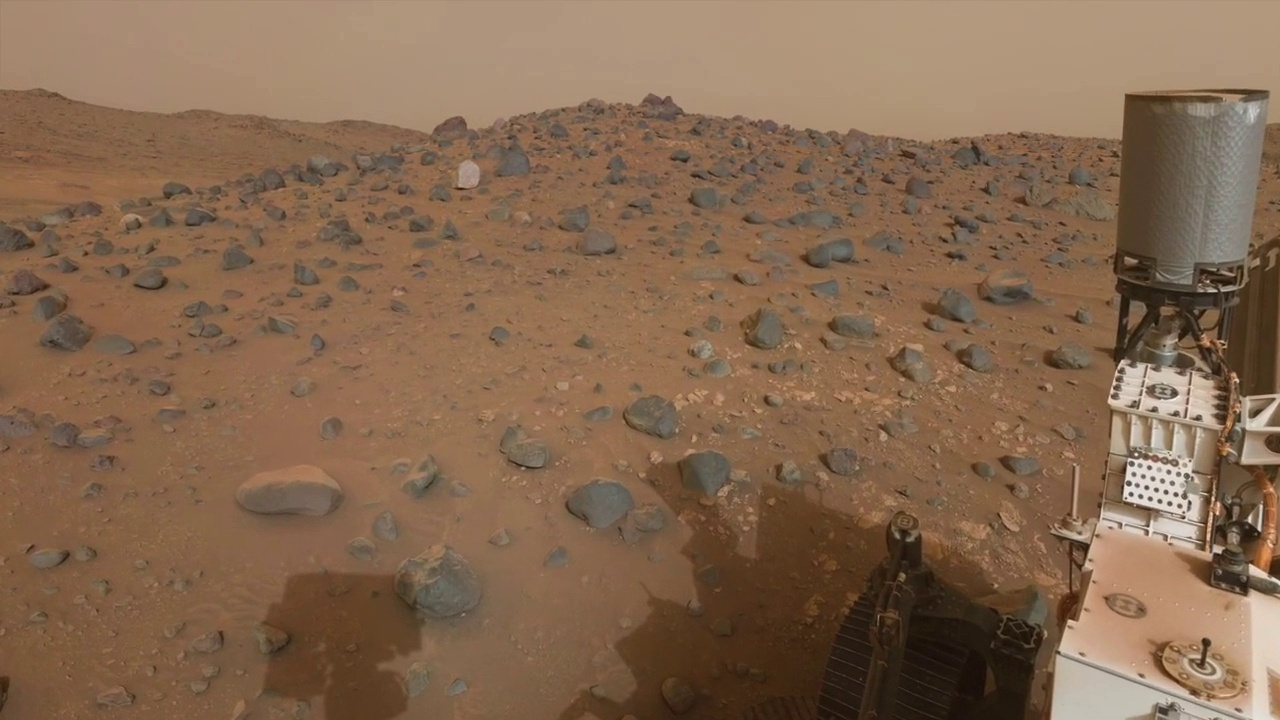rock: (921, 288, 979, 334), (622, 401, 675, 440), (739, 310, 785, 350), (969, 462, 1018, 498), (1184, 638, 1222, 682), (817, 448, 865, 479), (942, 342, 989, 373), (1042, 348, 1093, 370), (886, 347, 918, 382), (826, 318, 879, 339), (997, 455, 1042, 478), (507, 452, 548, 471)
